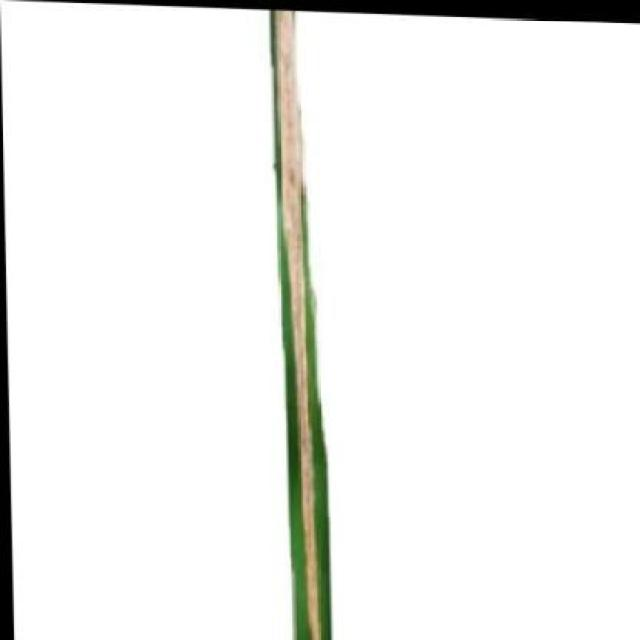Brown_Spot: (257, 6, 335, 640)
